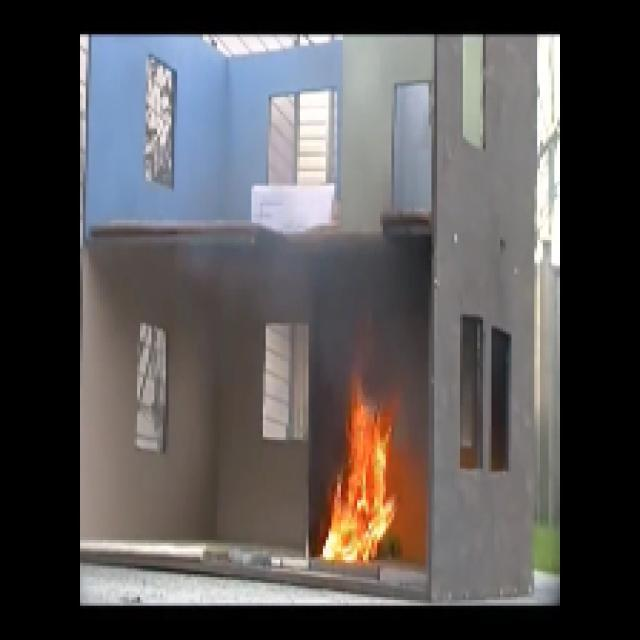Fire: (310, 380, 400, 566)
Smoke: (322, 250, 424, 330)
